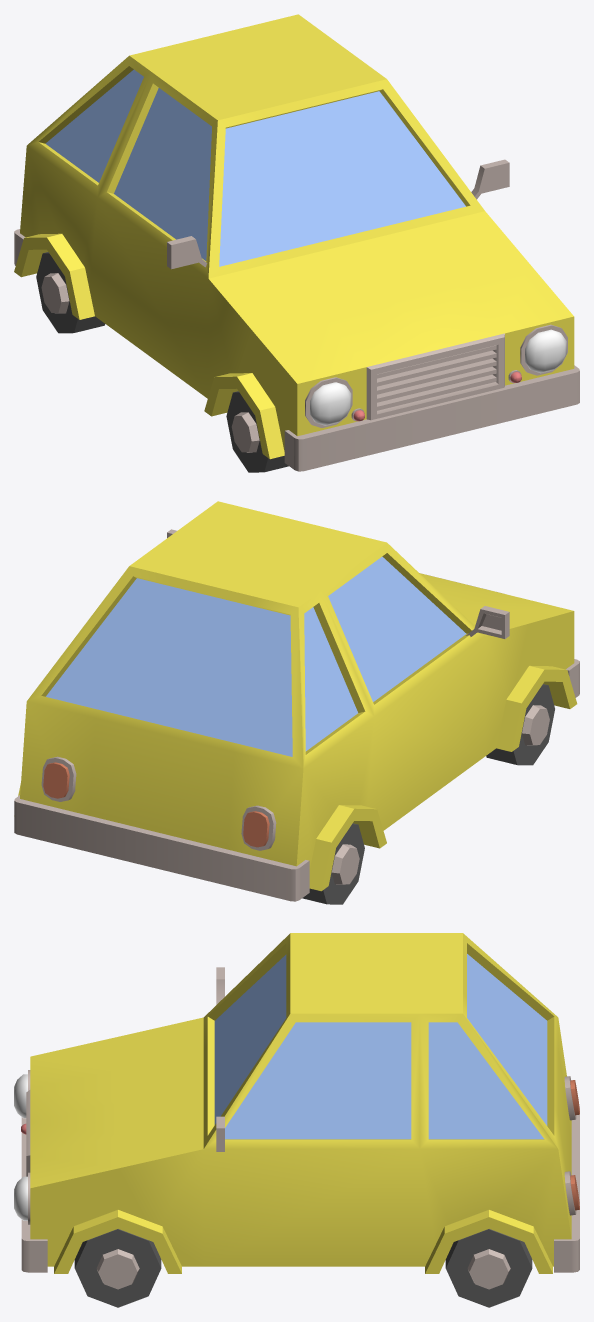
Rendered from Hatchback.fbx.
3 renders of one model, top to bottom at view 1: azimuth 30°, elevation 25°; view 2: azimuth 150°, elevation 25°; view 3: azimuth 270°, elevation 25°, orthographic. The views are drawn at different scales.
Parts seen in each view (by area): view 1: mesh_hatchback; view 2: mesh_hatchback; view 3: mesh_hatchback.
Part boxes in pixels (bbox=[...]): mesh_hatchback: bbox=[14, 14, 579, 472]; mesh_hatchback: bbox=[14, 501, 579, 904]; mesh_hatchback: bbox=[14, 933, 579, 1307].
Size of the model in its own units: 0.99 by 0.765 by 1.47.
